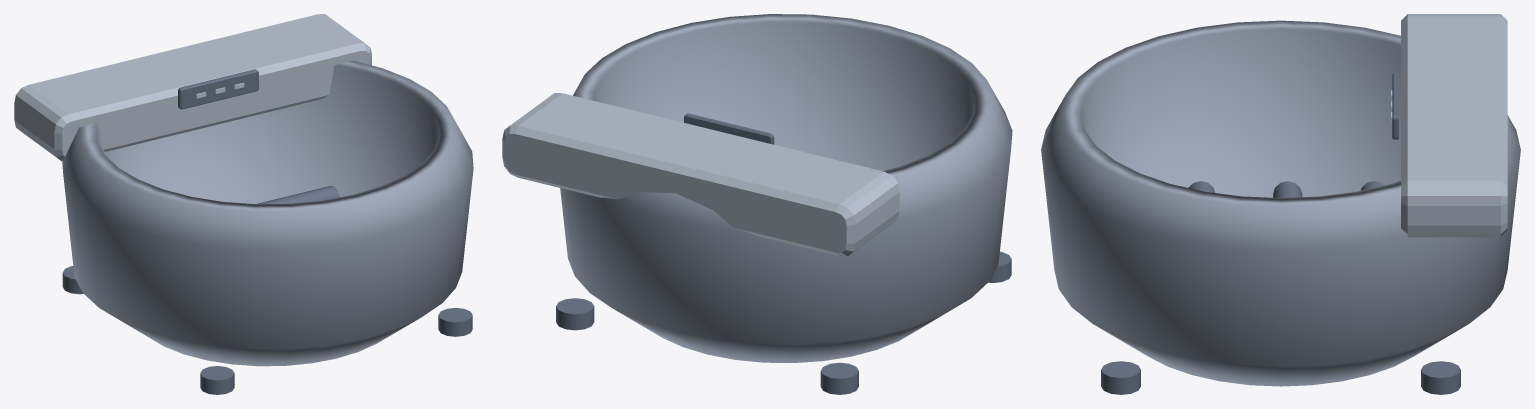
File: foot-spa.glb
3 views of the same model, side by side, from view 1: azimuth 30°, elevation 25°; view 2: azimuth 150°, elevation 25°; view 3: azimuth 270°, elevation 25° (orthographic). The views are drawn at different scales.
Visible parts, largest first — view 1: body, soft, dark; view 2: body, soft, dark; view 3: body, soft, dark.
Boxes of the visible parts, bbox=[...] form: body: bbox=[62, 60, 473, 366]; soft: bbox=[14, 14, 371, 161]; dark: bbox=[62, 69, 472, 394]; body: bbox=[560, 14, 1012, 362]; soft: bbox=[502, 93, 899, 256]; dark: bbox=[556, 113, 1011, 394]; body: bbox=[1041, 20, 1520, 386]; soft: bbox=[1401, 14, 1507, 237]; dark: bbox=[1101, 73, 1460, 394].
Bounding box in the file's own units: 0.36 × 0.186 × 0.36.
